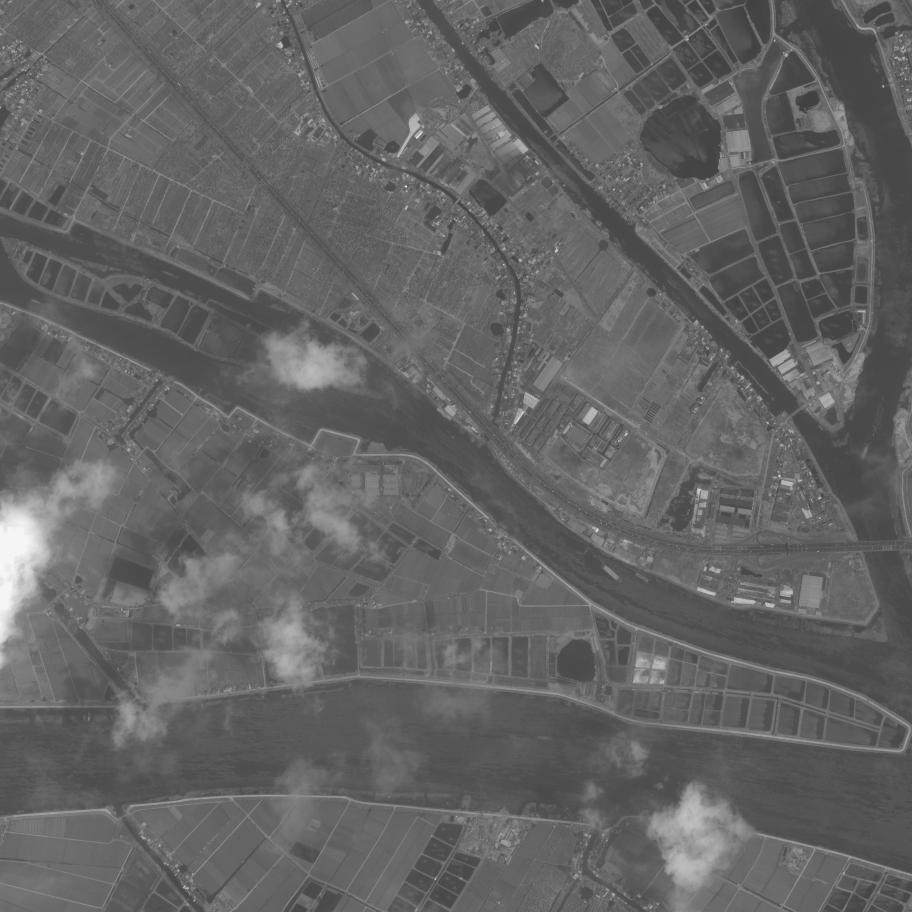ship: (600, 562, 624, 585), (858, 440, 873, 462), (561, 803, 577, 823), (534, 734, 554, 743), (635, 572, 650, 583), (30, 299, 40, 305)
